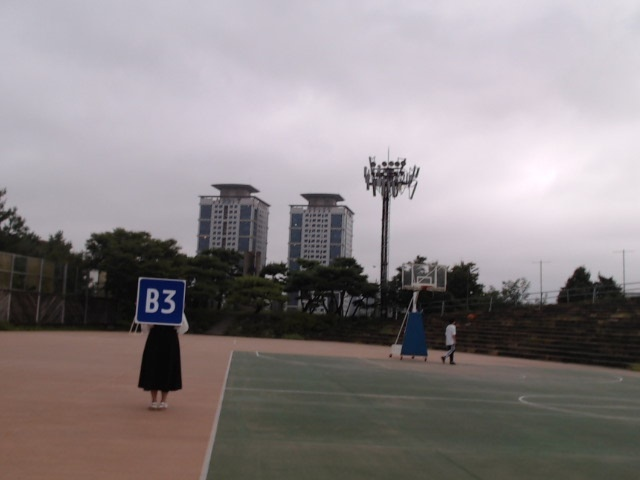delivery_b3: (137, 277, 187, 326)
